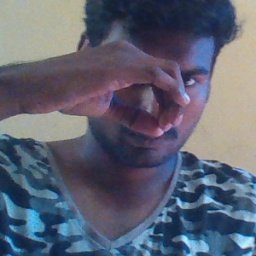O: (54, 33, 194, 148)
